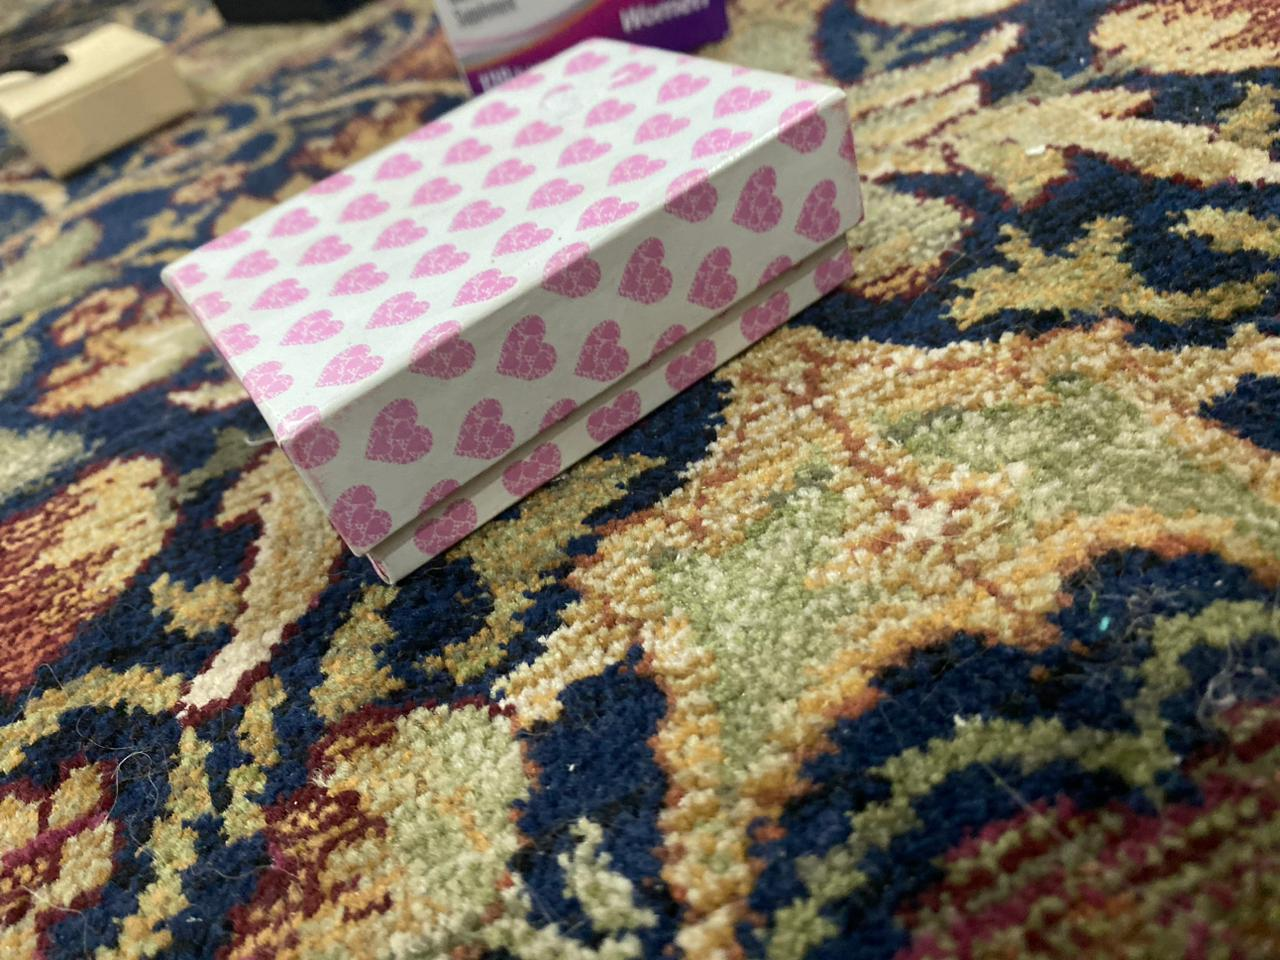Centrum: (433, 1, 767, 95)
Pink Box: (163, 36, 876, 595)
Yellow Box: (2, 19, 204, 170)
